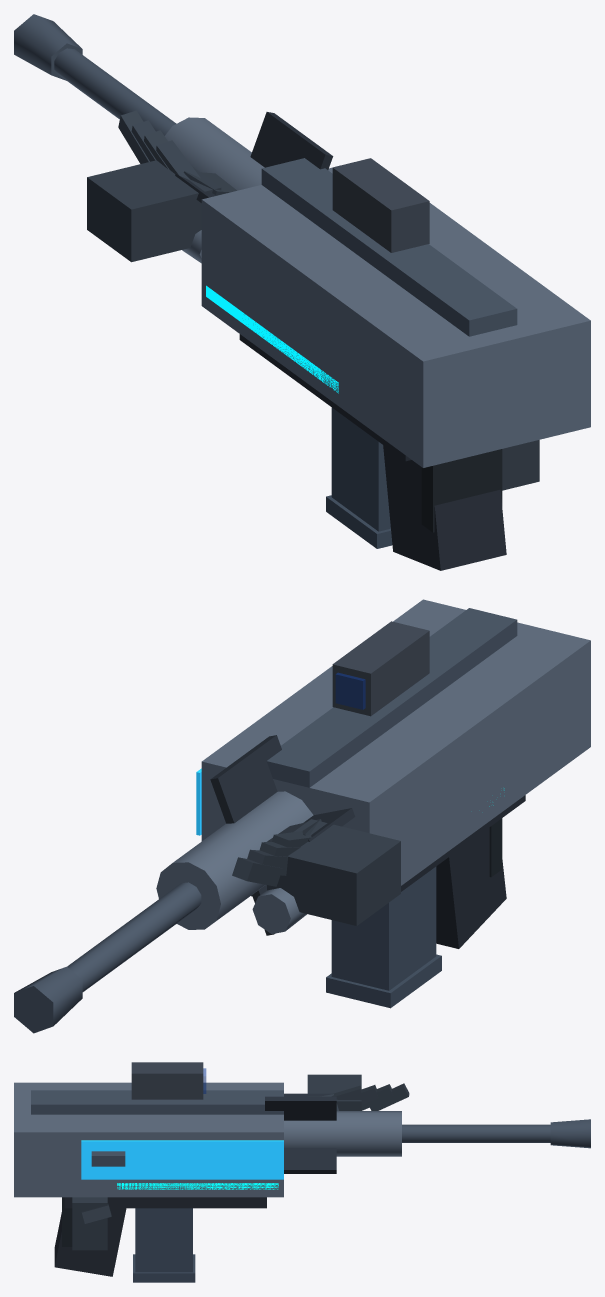
Rendered from smg.glb.
3 renders of one model, top to bottom at view 1: azimuth 30°, elevation 25°; view 2: azimuth 150°, elevation 25°; view 3: azimuth 270°, elevation 25°, orthographic. The views are drawn at different scales.
Visible parts, largest first — view 1: object 1, hand_l, object 3, object 11, object 18, object 13, object 4, object 12, object 9, object 5, muzzle_flash, object 23 (+3 smaller); view 2: object 1, hand_l, object 3, object 13, object 4, object 18, object 11, object 9, object 5, muzzle_flash, object 14, object 21 (+4 smaller); view 3: object 1, object 16, object 3, object 4, object 13, object 9, object 18, hand_l, object 11, object 2, object 23, object 5 (+7 smaller).
Part boxes in pixels (bbox=[...]): object 1: bbox=[201, 167, 590, 467]; hand_l: bbox=[87, 110, 236, 262]; object 3: bbox=[261, 158, 517, 336]; object 11: bbox=[383, 445, 506, 570]; object 18: bbox=[332, 158, 429, 252]; object 13: bbox=[331, 407, 390, 531]; object 4: bbox=[165, 117, 264, 190]; object 12: bbox=[421, 449, 502, 532]; object 9: bbox=[54, 48, 176, 135]; object 5: bbox=[250, 112, 333, 169]; muzzle_flash: bbox=[14, 14, 82, 80]; object 23: bbox=[502, 440, 539, 490]; object 1: bbox=[201, 599, 590, 885]; hand_l: bbox=[232, 819, 400, 925]; object 3: bbox=[266, 608, 517, 787]; object 13: bbox=[331, 866, 436, 990]; object 4: bbox=[156, 791, 313, 929]; object 18: bbox=[332, 621, 429, 716]; object 11: bbox=[436, 827, 506, 948]; object 9: bbox=[67, 882, 201, 991]; object 5: bbox=[210, 735, 281, 823]; muzzle_flash: bbox=[14, 966, 82, 1033]; object 14: bbox=[326, 954, 441, 1008]; object 21: bbox=[252, 888, 306, 933]; object 1: bbox=[14, 1082, 283, 1197]; object 16: bbox=[81, 1140, 283, 1179]; object 3: bbox=[31, 1090, 283, 1114]; object 4: bbox=[284, 1111, 401, 1156]; object 13: bbox=[135, 1208, 192, 1272]; object 9: bbox=[402, 1124, 550, 1142]; object 18: bbox=[131, 1062, 203, 1099]; hand_l: bbox=[307, 1074, 409, 1110]; object 11: bbox=[54, 1208, 126, 1276]; object 2: bbox=[64, 1197, 266, 1208]; object 23: bbox=[72, 1197, 107, 1250]; object 5: bbox=[265, 1096, 336, 1120].
Size of the model in its own units: 0.3008 by 0.402 by 1.03.
